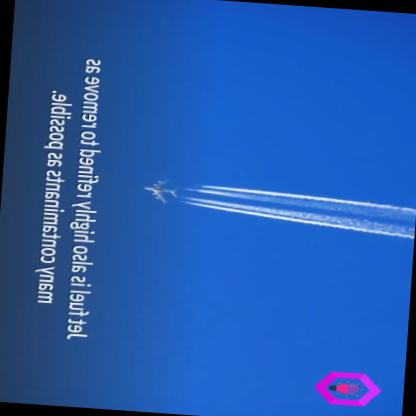plane: (140, 173, 178, 205)
